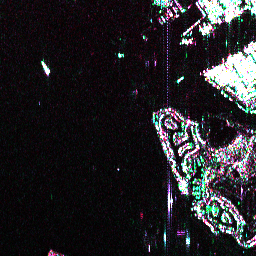ship: (38, 58, 53, 77), (174, 73, 186, 85)
